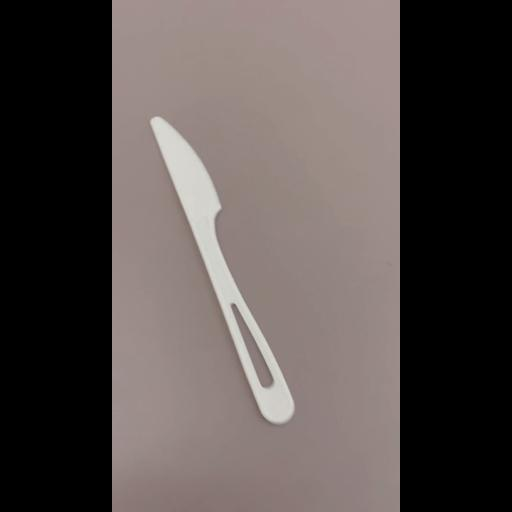utensil: (150, 115, 298, 429)
